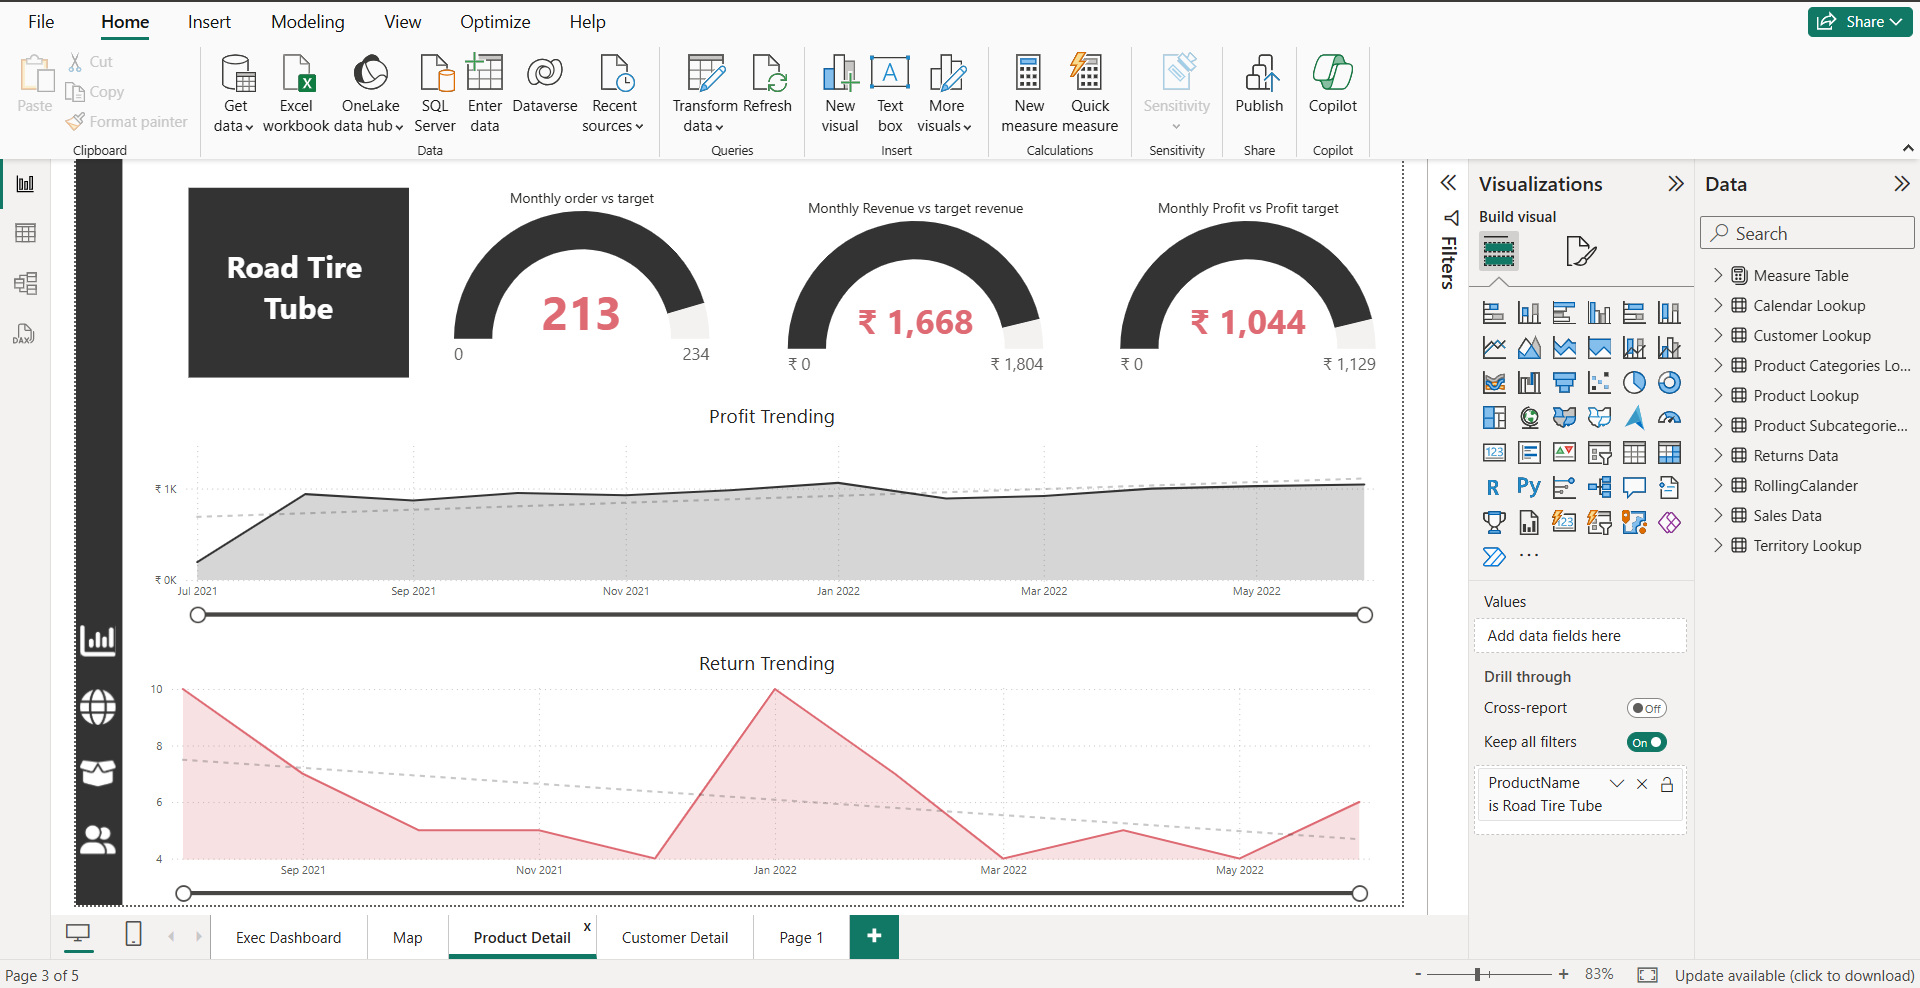

The dashboard page shown, as its layout file describes it:
{"tool":"powerbi","page":{"name":"Product Detail","canvas":[1280,720],"ordinal":2},"visuals":[{"type":"shape","box":[0,0,45,720.2],"z":0},{"type":"gauge","title":"Monthly order vs target","fields":{"Y":["Measure Table.Total Orders"],"MaxValue":["Measure Table.Order Target"]},"box":[351.3,27.3,274.3,182.5],"z":1000},{"type":"actionButton","box":[0,571.9,67.6,42.2],"z":1000,"group":"g1"},{"type":"actionButton","box":[0,444,67.6,42.2],"z":2000,"group":"g1"},{"type":"gauge","title":"Monthly Revenue vs target revenue","fields":{"MaxValue":["Measure Table.Revenue Target"],"Y":["Measure Table.sumx total revenue"]},"box":[672.8,37.2,274.3,182.5],"z":2000},{"type":"gauge","title":"Monthly Profit vs Profit target","fields":{"MaxValue":["Measure Table.profit target"],"Y":["Measure Table.Total Profit"]},"box":[994.3,37.2,274.3,182.5],"z":3000},{"type":"actionButton","box":[0,635.8,67.6,42.2],"z":3000,"group":"g1"},{"type":"actionButton","box":[0,507.9,67.6,42.2],"z":4000,"group":"g1"},{"type":"areaChart","title":" Profit Trending","fields":{"Y":["Measure Table.Total Profit"],"Category":["Calendar Lookup.Date Hierarchy.Start of Year","Calendar Lookup.Date Hierarchy.Start of Month","Calendar Lookup.Date Hierarchy.Start of Week","Calendar Lookup.Date Hierarchy.Date"]},"box":[71,235.3,1201.3,215.4],"z":4000},{"type":"areaChart","title":"Return Trending","fields":{"Y":["Measure Table.Total Returns"],"Category":["Calendar Lookup.Date Hierarchy.Start of Year","Calendar Lookup.Date Hierarchy.Start of Month","Calendar Lookup.Date Hierarchy.Start of Week","Calendar Lookup.Date Hierarchy.Date"]},"box":[66,473.1,1201.3,246.5],"z":5000},{"type":"card","fields":{"Values":["Min(Product Lookup.ProductName)"]},"box":[108.3,27.4,212.9,183],"z":6000},{"type":"group","id":"g1","title":"Navigation Buttons","box":[0,444,67.6,234],"z":7000}]}

Visuals, with their boxes on the page's 1280x720 design canvas (x1, y1, x2, y2). These are canvas units, not pixel positions in the 1920x988 screenshot, which may show the page scaled, cropped or inside an application window:
shape: x1=0 y1=0 x2=45 y2=720
"Monthly order vs target" gauge: x1=351 y1=27 x2=626 y2=210
actionButton: x1=0 y1=572 x2=68 y2=614
actionButton: x1=0 y1=444 x2=68 y2=486
"Monthly Revenue vs target revenue" gauge: x1=673 y1=37 x2=947 y2=220
"Monthly Profit vs Profit target" gauge: x1=994 y1=37 x2=1269 y2=220
actionButton: x1=0 y1=636 x2=68 y2=678
actionButton: x1=0 y1=508 x2=68 y2=550
" Profit Trending" areaChart: x1=71 y1=235 x2=1272 y2=451
"Return Trending" areaChart: x1=66 y1=473 x2=1267 y2=720
card - Min(Product Lookup.ProductName): x1=108 y1=27 x2=321 y2=210
"Navigation Buttons" group: x1=0 y1=444 x2=68 y2=678
